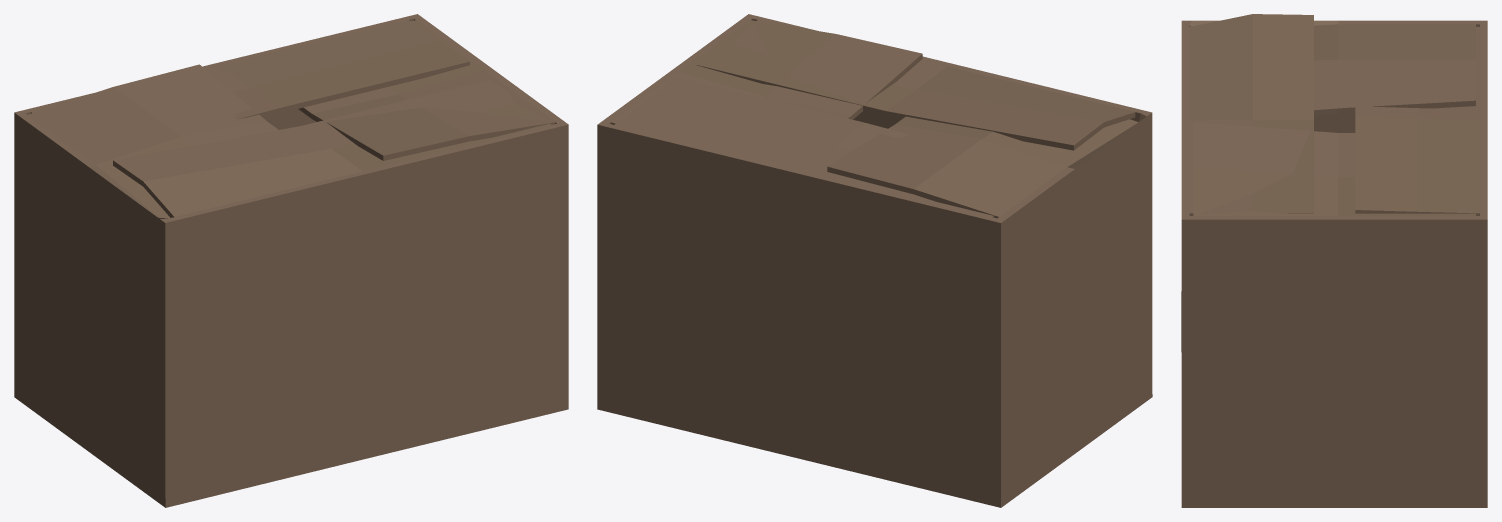
File: pahvilaatikko2.fbx
3 renders of one model, left to right at view 1: azimuth 30°, elevation 25°; view 2: azimuth 150°, elevation 25°; view 3: azimuth 270°, elevation 25°, orthographic.
Parts seen in each view (by area): view 1: pahvilaatikko2; view 2: pahvilaatikko2; view 3: pahvilaatikko2.
Part boxes in pixels (<box>): pahvilaatikko2: <box>14,14,568,507</box>; pahvilaatikko2: <box>597,14,1152,507</box>; pahvilaatikko2: <box>1181,14,1487,507</box>.
Size of the model in its own units: 72.39 by 51.01 by 47.03.
